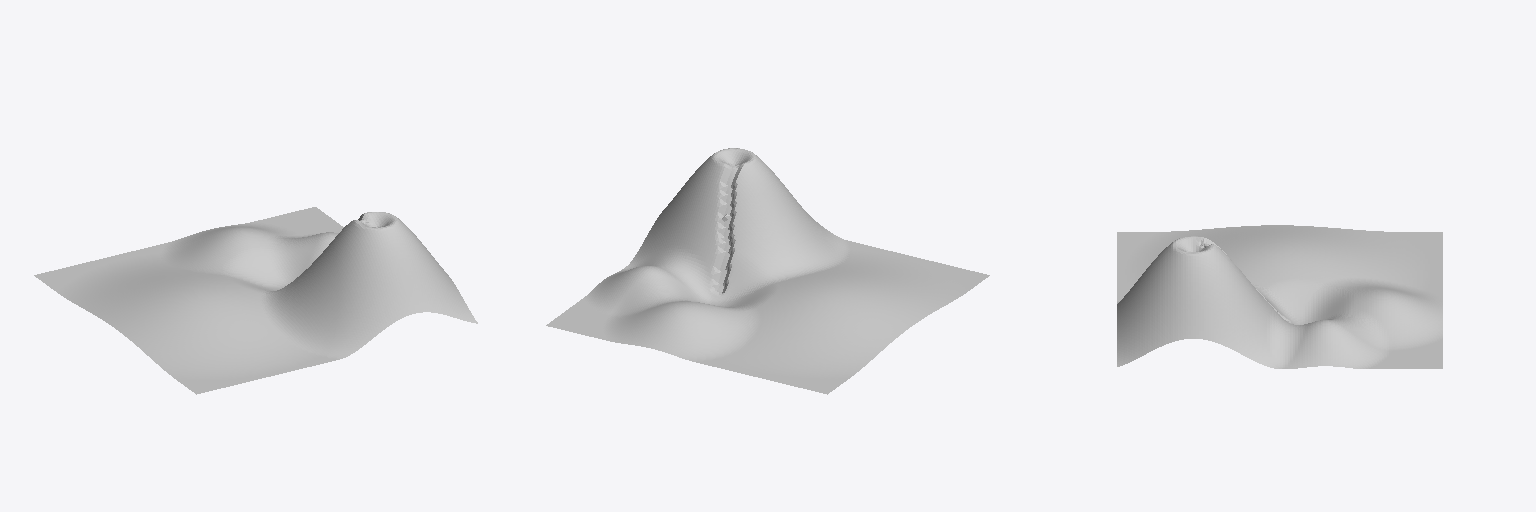
File: mainLand.obj
The picture shows the model from 3 angles: view 1: azimuth 30°, elevation 25°; view 2: azimuth 150°, elevation 25°; view 3: azimuth 270°, elevation 25°; orthographic projection.
Visible parts, largest first — view 1: Plane_Plane.003; view 2: Plane_Plane.003; view 3: Plane_Plane.003.
Part boxes in pixels (left/top/right/bottom): Plane_Plane.003: left=34, top=207, right=477, bottom=394; Plane_Plane.003: left=546, top=148, right=989, bottom=394; Plane_Plane.003: left=1117, top=225, right=1442, bottom=368.
Size of the model in its own units: 300 by 99.29 by 300.